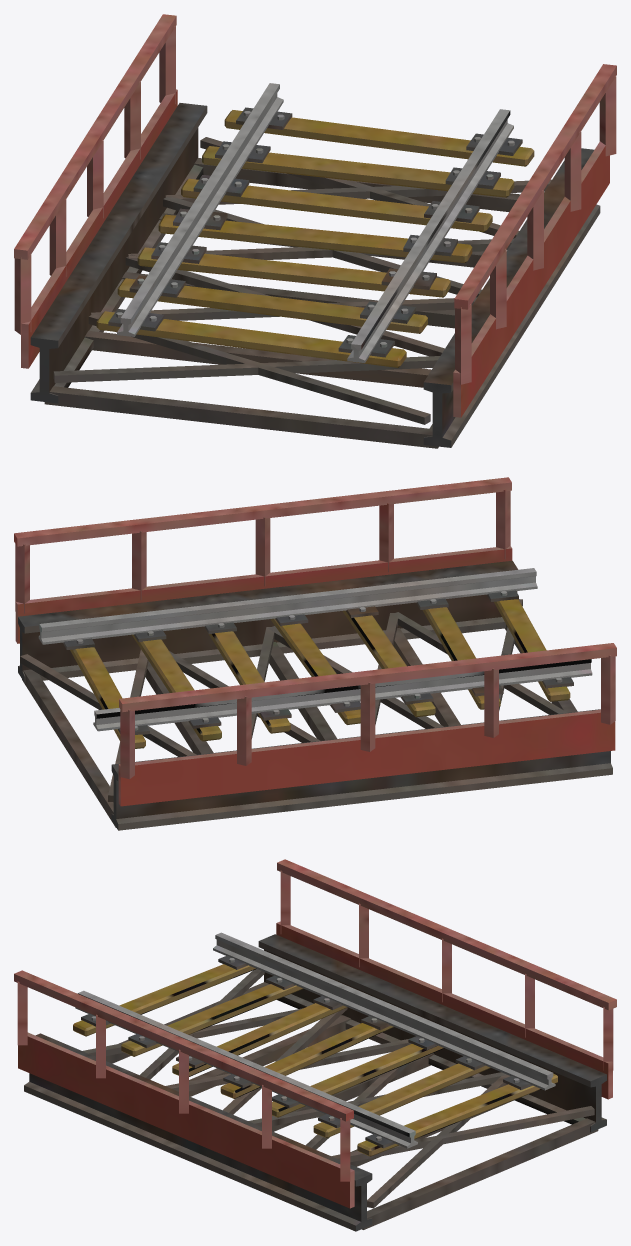
The model's file is elevated-straight-rail-ne.glb.
The picture shows the model from 3 angles, top to bottom: view 1: azimuth 30°, elevation 25°; view 2: azimuth 150°, elevation 25°; view 3: azimuth 270°, elevation 25°; orthographic projection. The views are drawn at different scales.
Parts seen in each view (by area): view 1: body; view 2: body; view 3: body.
Part boxes in pixels (<box>): body: <box>14,14,616,448</box>; body: <box>14,477,616,830</box>; body: <box>14,859,616,1231</box>.
Bounding box in the file's own units: 3.63 × 0.825 × 3.63.
1 material, 1 textured.
